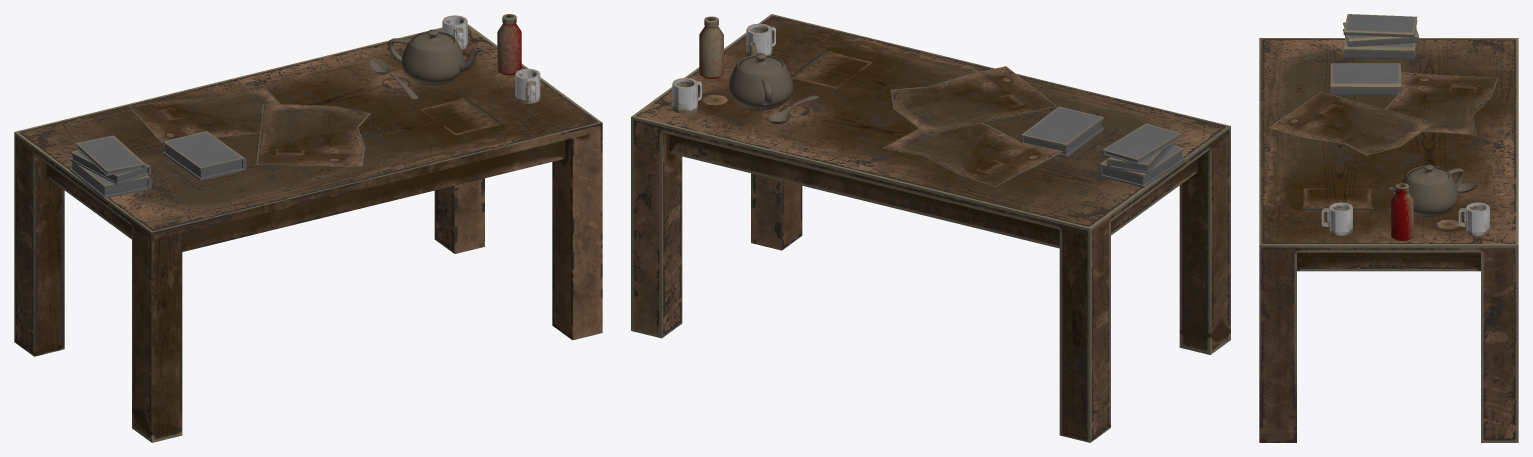
The model's file is adan bye masa.fbx.
3 views of the same model, side by side, from view 1: azimuth 30°, elevation 25°; view 2: azimuth 150°, elevation 25°; view 3: azimuth 270°, elevation 25° (orthographic). The views are drawn at different scales.
Visible parts, largest first — view 1: table top; view 2: table top; view 3: table top.
Boxes of the visible parts, bbox=[...] form: table top: bbox=[14, 14, 602, 442]; table top: bbox=[631, 14, 1230, 442]; table top: bbox=[1259, 14, 1518, 442].
Bounding box in the file's own units: 2.01 × 1.12 × 1.06.
Materials: 1 (1 with a texture image).
